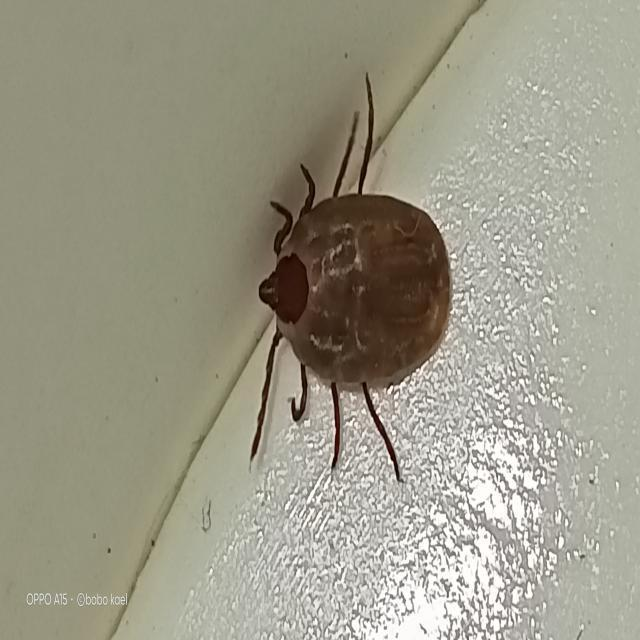Rhipicephalus Sanguineus-F-Fed: (247, 69, 452, 484)
